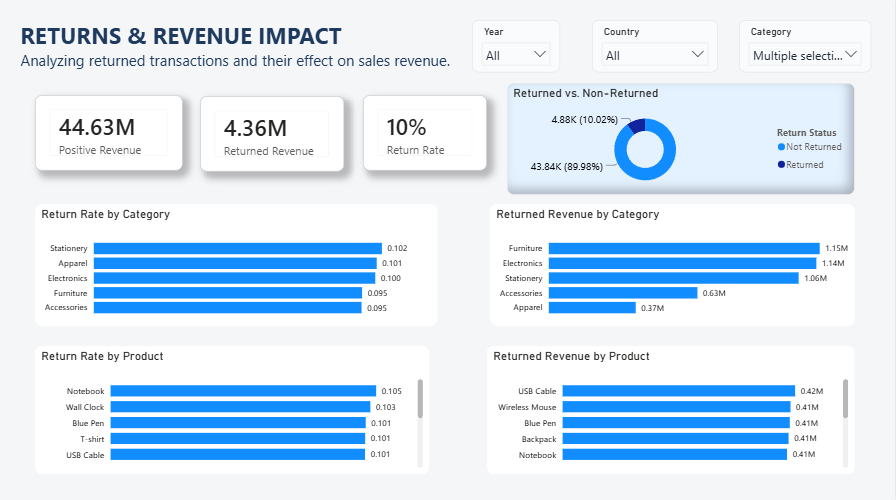

What the dashboard file says about the page in this screenshot:
{"tool":"powerbi","page":{"name":"Returns & Revenue Impact","canvas":[1280,720],"ordinal":2},"visuals":[{"type":"textbox","box":[26.3,26.3,689.3,84.9],"z":0},{"type":"slicer","fields":{"Values":["DimDate.Year"]},"box":[676.1,30.7,125.9,74.6],"z":1000},{"type":"slicer","fields":{"Values":["DimCustomer.category"]},"box":[1056.6,30.7,188.8,74.6],"z":2000},{"type":"slicer","fields":{"Values":["DimCustomer.country"]},"box":[847.3,30.7,180,74.6],"z":3000},{"type":"clusteredBarChart","title":"Return Rate by Category","fields":{"Category":["DimCustomer.category"],"Y":["FactSales.Return Rate"]},"box":[51.2,294.1,575.1,174.1],"z":4000},{"type":"cardVisual","fields":{"Data":["FactSales.Positive Revenue"]},"box":[51.2,139,210.7,108.3],"z":5000},{"type":"cardVisual","fields":{"Data":["FactSales.Returned Revenue"]},"box":[286.6,139.7,205.9,108],"z":6000},{"type":"cardVisual","fields":{"Data":["FactSales.Return Rate"]},"box":[519.5,139,177.1,108.3],"z":7000},{"type":"clusteredBarChart","title":"Returned Revenue by Category","fields":{"Category":["DimCustomer.category"],"Y":["FactSales.Returned Revenue"]},"box":[701,294.1,521,174.1],"z":8000},{"type":"clusteredBarChart","title":"Return Rate by Product","fields":{"Category":["DimProduct.description"],"Y":["FactSales.Return Rate"]},"box":[51.2,497.6,563.4,182.9],"z":9000},{"type":"donutChart","title":"Returned vs. Non-Returned","fields":{"Category":["FactSales.returnstatus"],"Y":["FactSales.Invoice Count"]},"box":[725.8,121,496.8,159.8],"z":10000},{"type":"clusteredBarChart","fields":{"Y":["FactSales.Returned Revenue"],"Category":["DimProduct.description"]},"box":[696.6,497.6,525.4,182.9],"z":11000}]}

Visuals, with their boxes in screenshot pixels (x1, y1, x2, y2), scaled from the page's 1280x720 canvas onto the 896x500 screenshot:
textbox: l=18, t=18, r=501, b=77
slicer - DimDate.Year: l=473, t=21, r=561, b=73
slicer - DimCustomer.category: l=740, t=21, r=872, b=73
slicer - DimCustomer.country: l=593, t=21, r=719, b=73
"Return Rate by Category" clusteredBarChart: l=36, t=204, r=438, b=325
cardVisual - FactSales.Positive Revenue: l=36, t=97, r=183, b=172
cardVisual - FactSales.Returned Revenue: l=201, t=97, r=345, b=172
cardVisual - FactSales.Return Rate: l=364, t=97, r=488, b=172
"Returned Revenue by Category" clusteredBarChart: l=491, t=204, r=855, b=325
"Return Rate by Product" clusteredBarChart: l=36, t=346, r=430, b=473
"Returned vs. Non-Returned" donutChart: l=508, t=84, r=856, b=195
clusteredBarChart - FactSales.Returned Revenue x DimProduct.description: l=488, t=346, r=855, b=473
